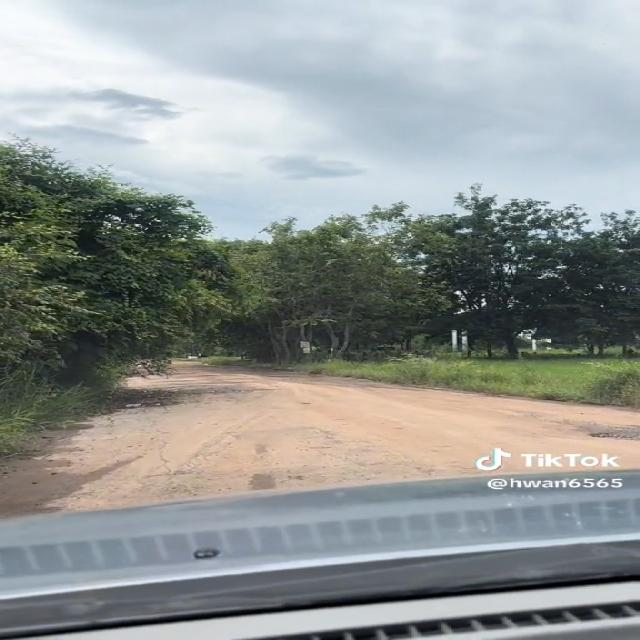Poth-hole: (164, 418, 320, 491)
